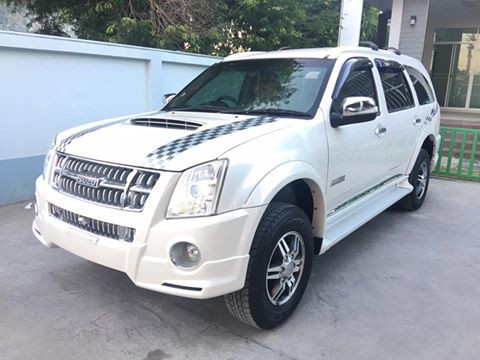pickup: (33, 41, 442, 331)
